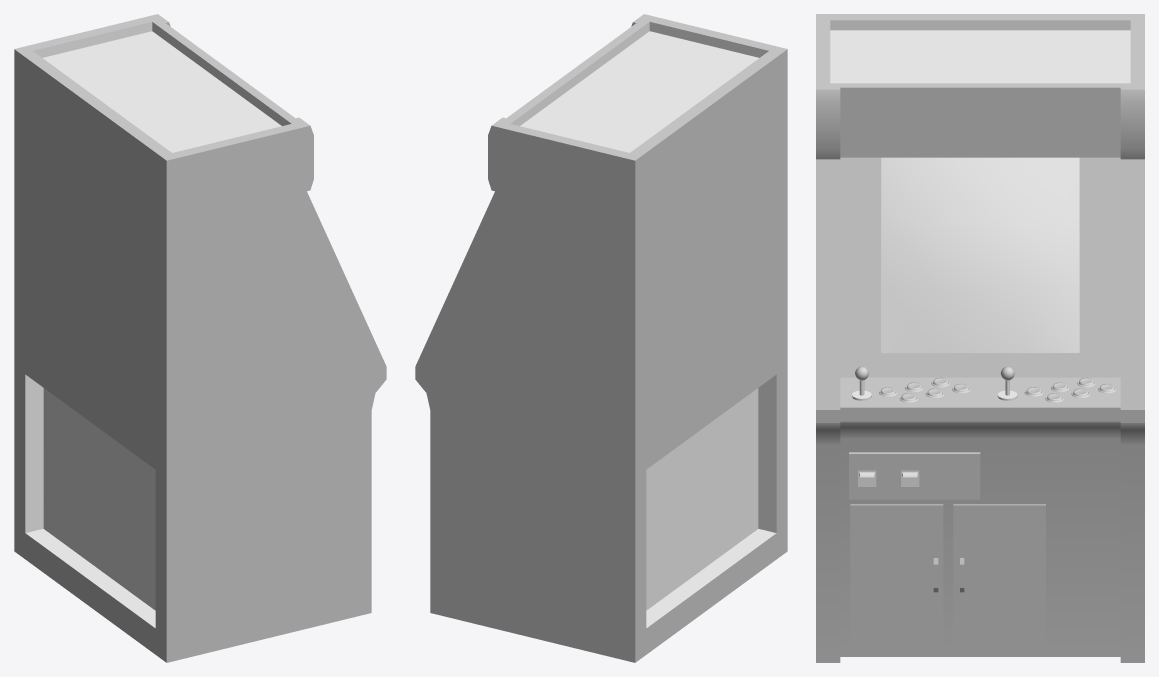
The model's file is Arcade FTTF.glb.
3 renders of one model, left to right at view 1: azimuth 30°, elevation 25°; view 2: azimuth 150°, elevation 25°; view 3: azimuth 270°, elevation 25°, orthographic. The views are drawn at different scales.
Parts seen in each view (by area): view 1: Cube.021; view 2: Cube.021; view 3: Cube.021.
Boxes of the visible parts, left/top/right/bottom form: Cube.021: left=14, top=14, right=386, bottom=662; Cube.021: left=415, top=14, right=787, bottom=662; Cube.021: left=816, top=14, right=1144, bottom=662.
Size of the model in its own units: 0.7077 by 1.54 by 0.8498.
Materials: 4 (1 with a texture image).
